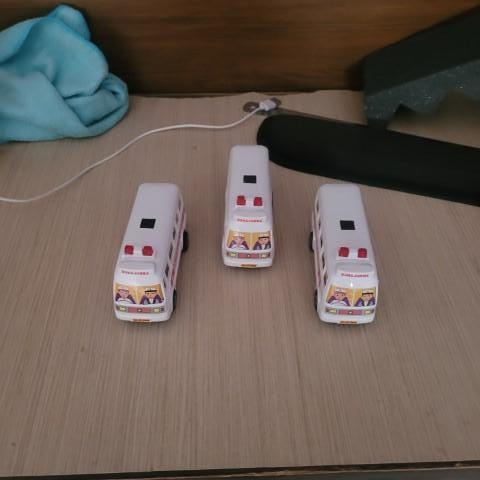ambulance: (113, 176, 192, 329), (304, 177, 382, 327), (217, 139, 280, 272)
